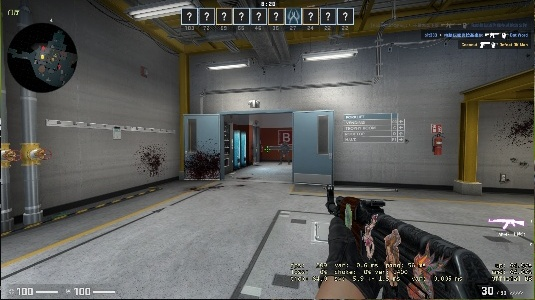body: (277, 142, 291, 166)
head: (283, 141, 287, 147)
